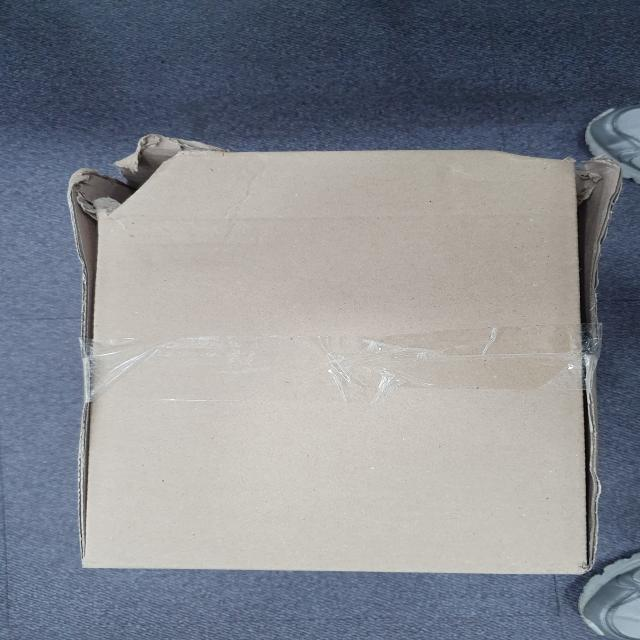hole: (88, 152, 192, 208)
